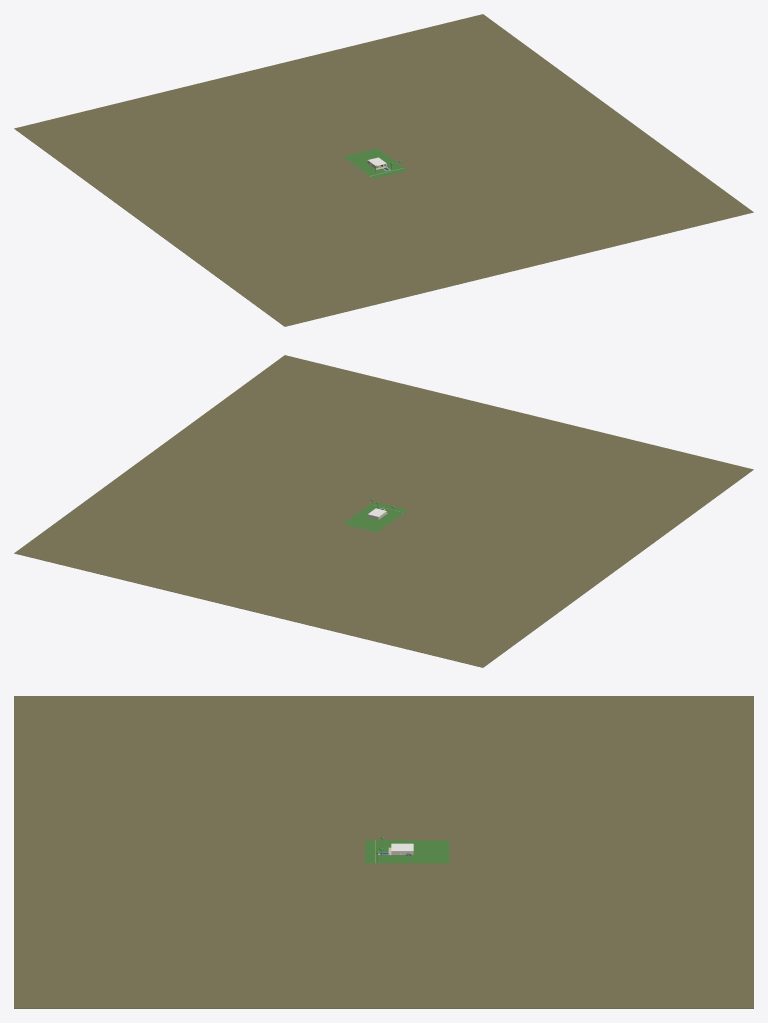
Rendered from interior.glb.
3 renders of one model, top to bottom at view 1: azimuth 30°, elevation 25°; view 2: azimuth 150°, elevation 25°; view 3: azimuth 270°, elevation 25°, orthographic. The views are drawn at different scales.
Parts seen in each view (by area): view 1: exterior|MI_floodwater, exterior|MI_lawn; view 2: exterior|MI_floodwater, exterior|MI_lawn; view 3: exterior|MI_floodwater, exterior|MI_lawn.
Boxes of the visible parts, <box> form: exterior|MI_floodwater: <box>14,14,753,326</box>; exterior|MI_lawn: <box>343,148,407,178</box>; exterior|MI_floodwater: <box>14,355,753,667</box>; exterior|MI_lawn: <box>343,501,407,532</box>; exterior|MI_floodwater: <box>14,696,753,1008</box>; exterior|MI_lawn: <box>365,840,449,863</box>.
Bounding box in the file's own units: 600 × 10.03 × 600.
